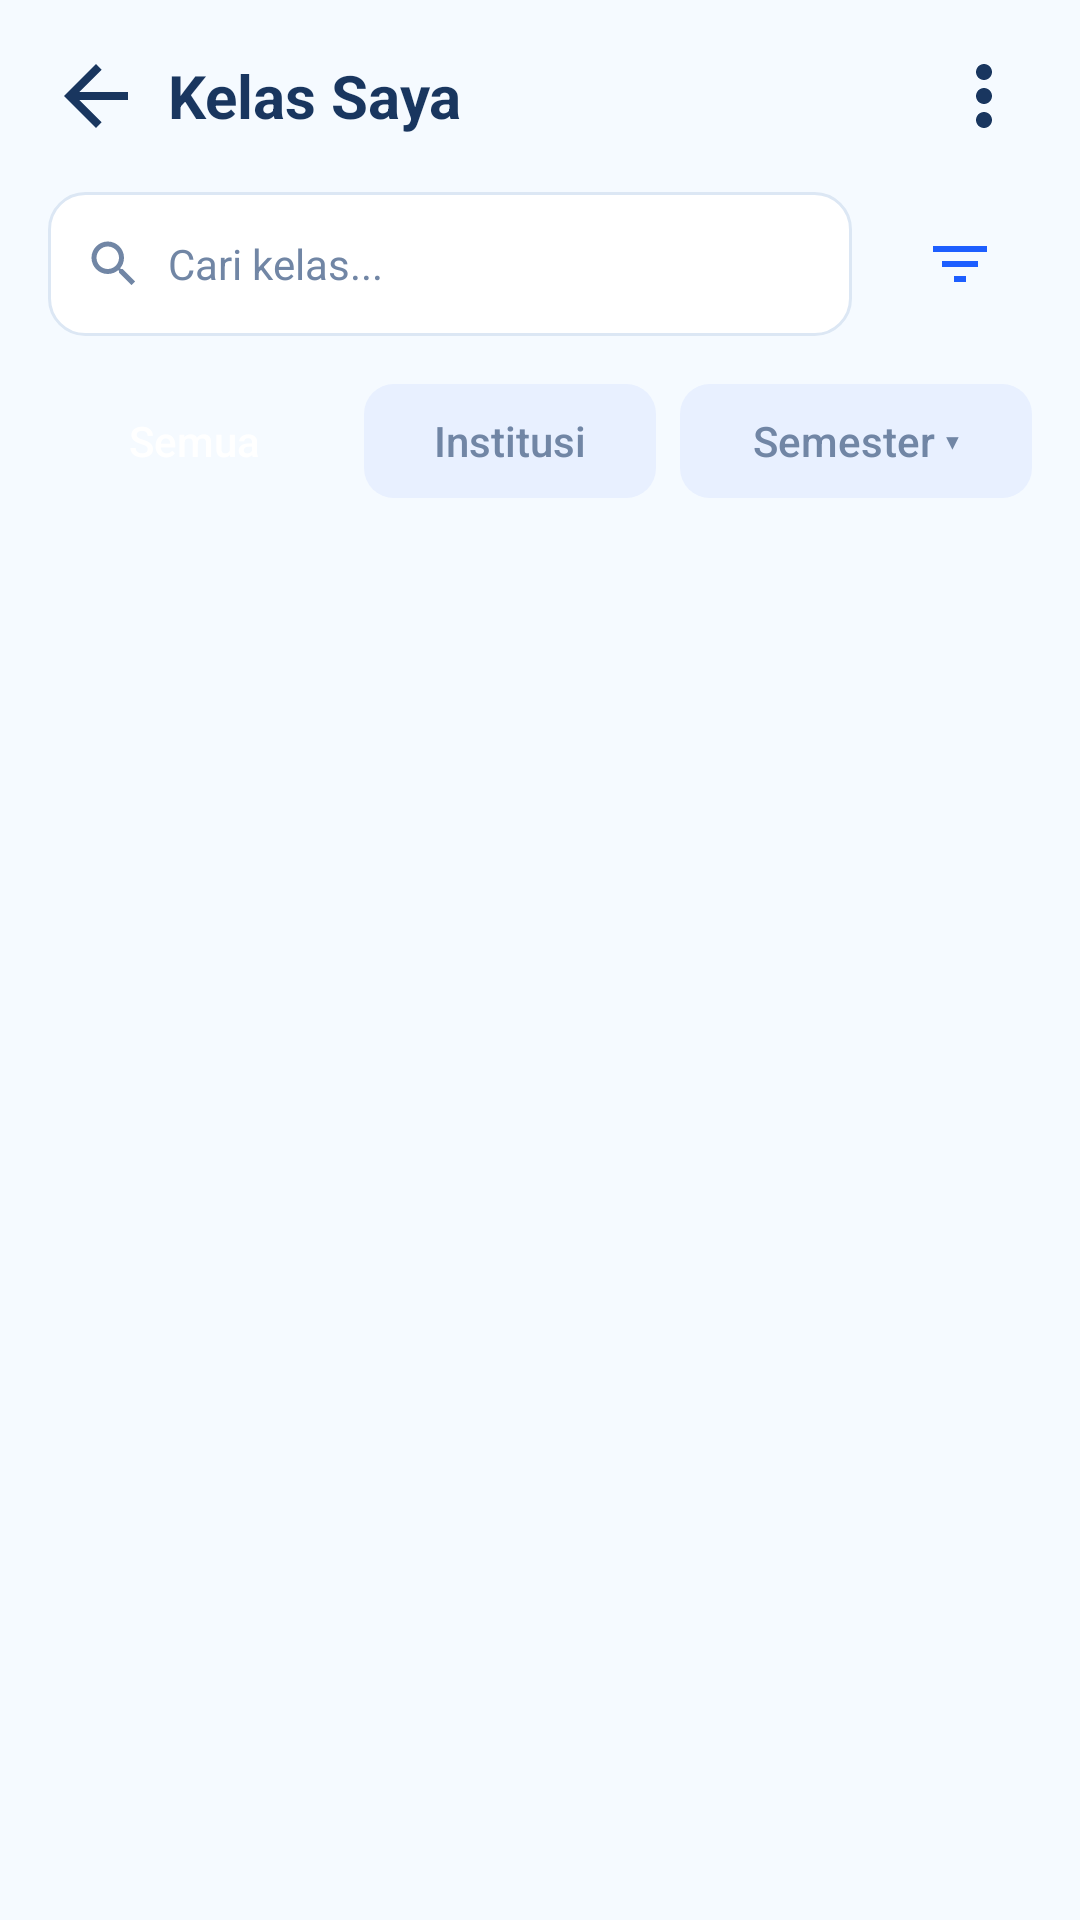

Screen size 1080*1920. Icon name, then its center in pixels as (x=x, y=y):
back: (x=96, y=96)
filter: (x=960, y=264)
more vert: (x=984, y=96)
search: (x=113, y=263)
